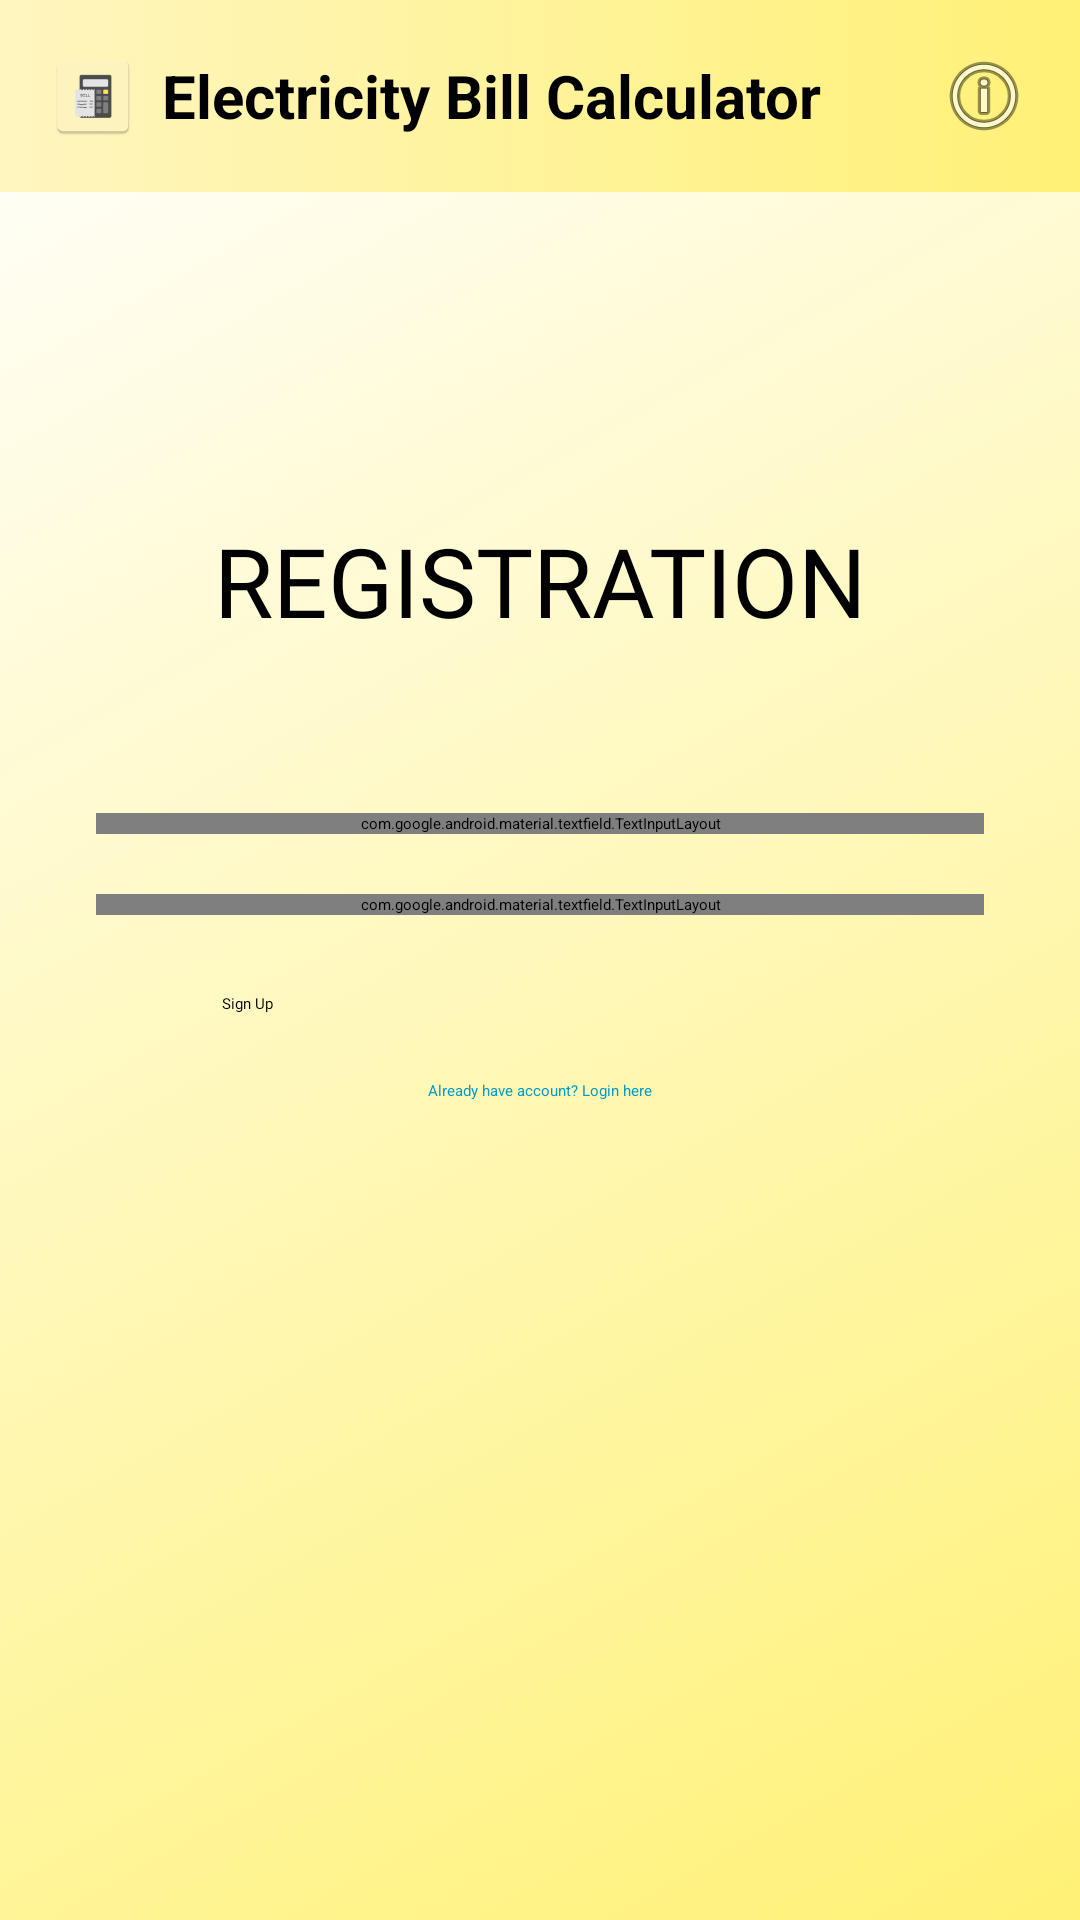

Point at icon controls on the screen. Image size 1080x1920, points as (x=x, y=y).
Info: (x=984, y=96)
